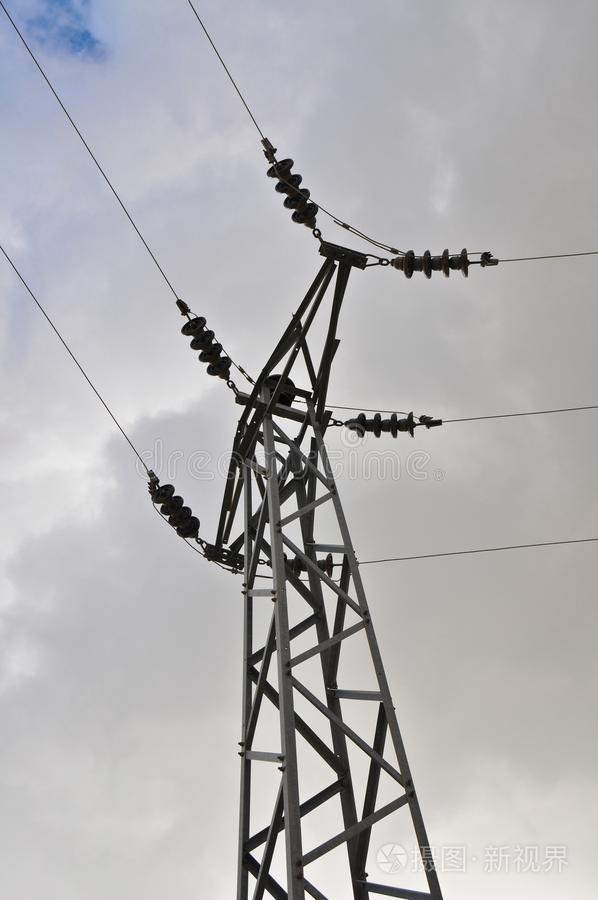insulator: (179, 310, 232, 381), (265, 156, 317, 228), (151, 480, 205, 544), (397, 248, 477, 280), (352, 410, 419, 439)
